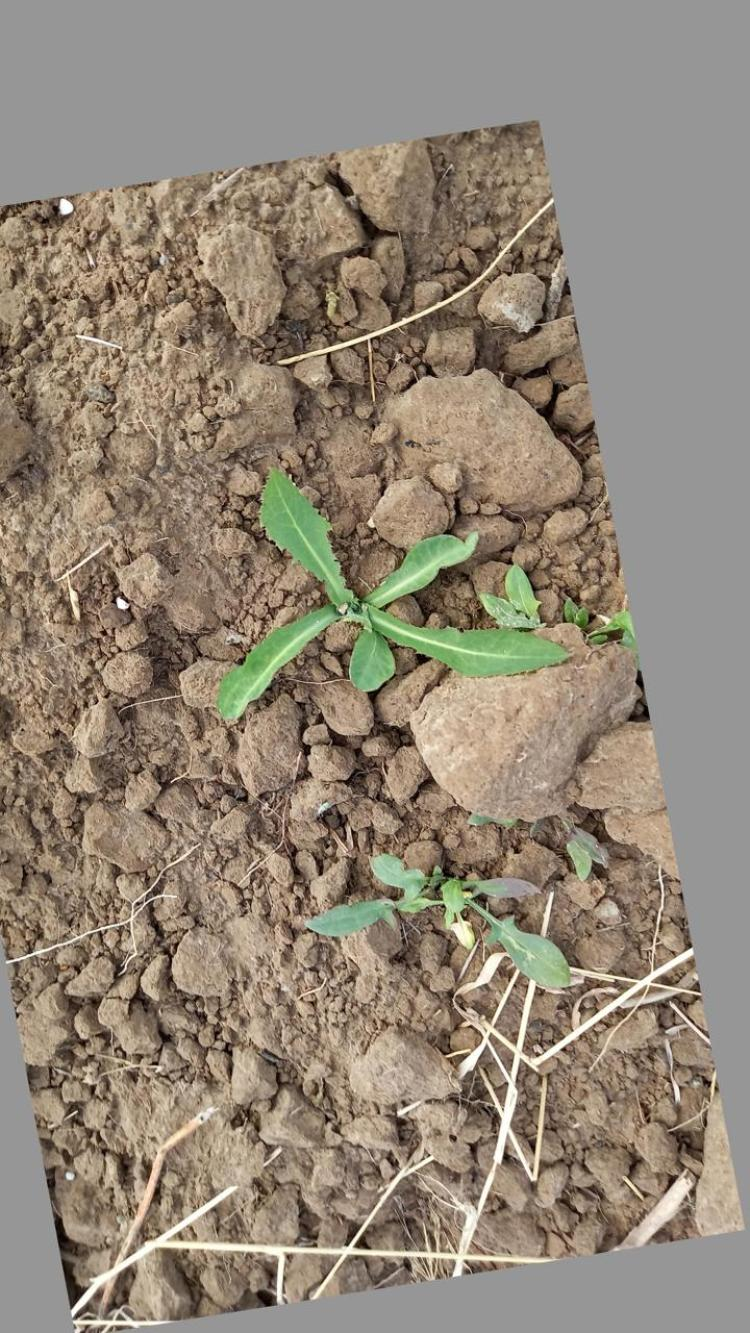osot: (208, 456, 575, 752)
